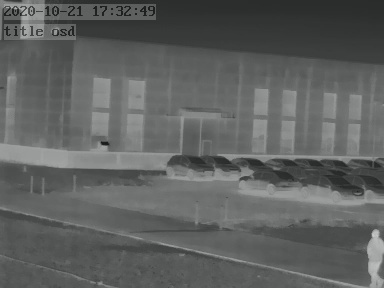person: (363, 225, 384, 288)
vehicle: (301, 171, 362, 199), (238, 169, 303, 191), (164, 153, 212, 179), (349, 173, 382, 200), (204, 154, 242, 177), (232, 154, 269, 171), (262, 155, 297, 169), (348, 156, 380, 170), (295, 156, 324, 169), (318, 156, 347, 169)
